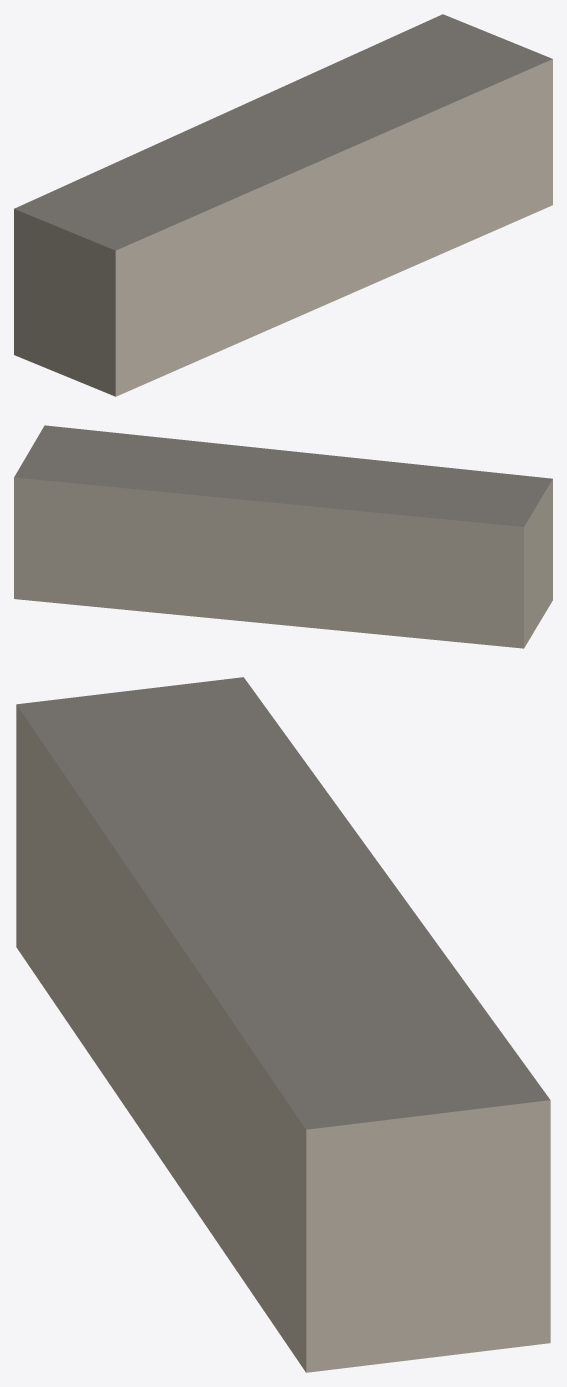
3 views of the same model, one above another, from view 1: azimuth 30°, elevation 25°; view 2: azimuth 150°, elevation 25°; view 3: azimuth 270°, elevation 25° (orthographic). The views are drawn at different scales.
Visible parts, largest first — view 1: HP-w859488666; view 2: HP-w859488666; view 3: HP-w859488666.
Part boxes in pixels (left/top/right/bottom): HP-w859488666: left=14, top=14, right=552, bottom=396; HP-w859488666: left=14, top=425, right=552, bottom=648; HP-w859488666: left=16, top=677, right=550, bottom=1372.
Size of the model in its own units: 47.92 by 12 by 23.89.
